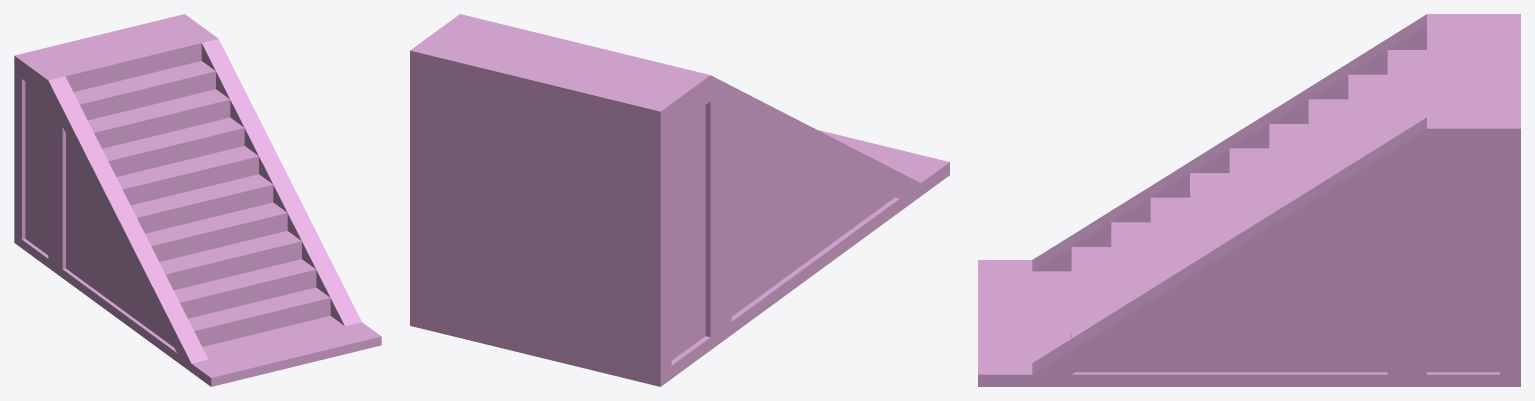
File: stairs_full_001.fbx
The picture shows the model from 3 angles, left to right: view 1: azimuth 30°, elevation 25°; view 2: azimuth 150°, elevation 25°; view 3: azimuth 270°, elevation 25°; orthographic projection. The views are drawn at different scales.
Parts seen in each view (by area): view 1: stairs_pleins.001; view 2: stairs_pleins.001; view 3: stairs_pleins.001.
Part boxes in pixels (x1=…): stairs_pleins.001: x1=14, y1=14, x2=381, y2=386; stairs_pleins.001: x1=410, y1=14, x2=949, y2=386; stairs_pleins.001: x1=978, y1=14, x2=1520, y2=386.
Size of the model in its own units: 500 by 525 by 1000.
